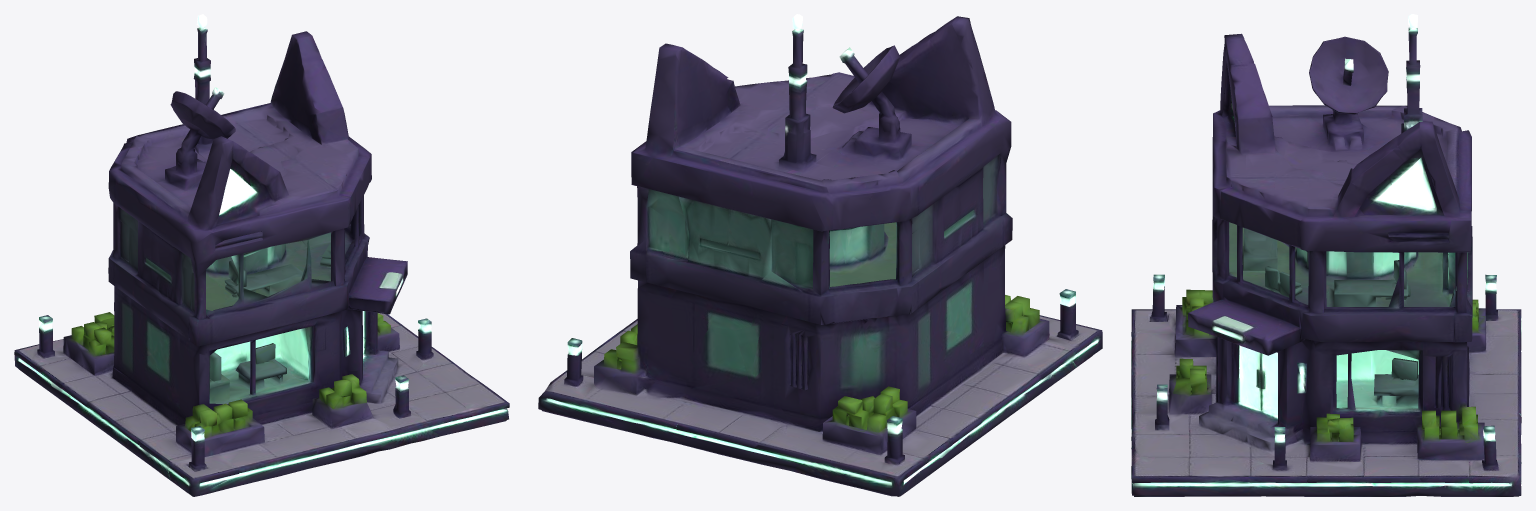
Rendered from agency-hq.glb.
The picture shows the model from 3 angles, left to right: view 1: azimuth 30°, elevation 25°; view 2: azimuth 150°, elevation 25°; view 3: azimuth 270°, elevation 25°; orthographic projection. The views are drawn at different scales.
Parts seen in each view (by area): view 1: agency-hq; view 2: agency-hq; view 3: agency-hq.
Boxes of the visible parts, left/top/right/bottom form: agency-hq: left=14, top=14, right=509, bottom=496; agency-hq: left=538, top=14, right=1102, bottom=496; agency-hq: left=1131, top=14, right=1521, bottom=496.
Bounding box in the file's own units: 0.931 × 1 × 0.9081.
1 material, 1 textured.
